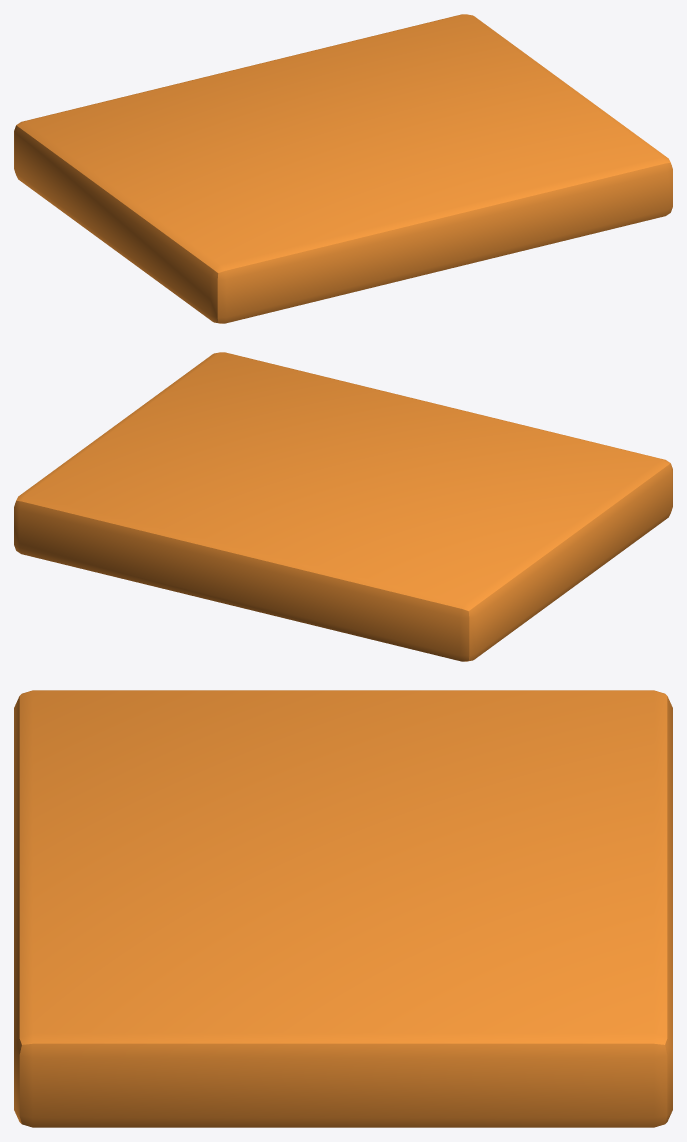
File: Platform_P5_Orange_Crumble.fbx
The picture shows the model from 3 angles, top to bottom: view 1: azimuth 30°, elevation 25°; view 2: azimuth 150°, elevation 25°; view 3: azimuth 270°, elevation 25°; orthographic projection. The views are drawn at different scales.
Visible parts, largest first — view 1: Platform_P5_Orange_Crumble; view 2: Platform_P5_Orange_Crumble; view 3: Platform_P5_Orange_Crumble.
Boxes of the visible parts, <box> form: Platform_P5_Orange_Crumble: <box>14,14,672,323</box>; Platform_P5_Orange_Crumble: <box>14,352,672,661</box>; Platform_P5_Orange_Crumble: <box>14,690,672,1127</box>.
Size of the model in its own units: 1.8 by 0.22 by 1.4.
